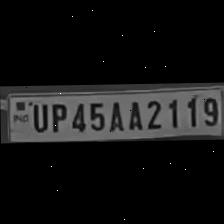1: (180, 93, 198, 126), (164, 95, 181, 127)
2: (142, 97, 164, 128)
4: (67, 99, 87, 130)
5: (86, 99, 106, 130)
9: (198, 94, 220, 125)
A: (105, 96, 124, 130), (124, 96, 142, 129)
P: (46, 99, 68, 131)
U: (28, 100, 48, 132)
